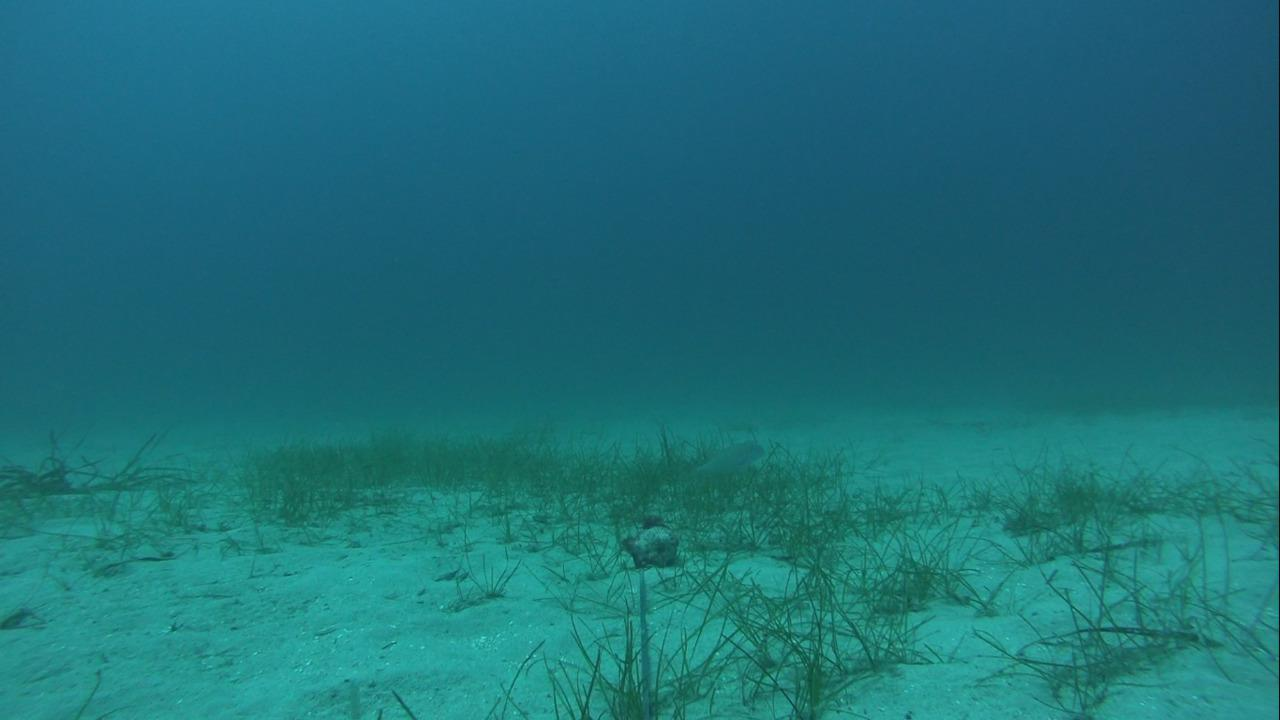raor: (678, 428, 769, 480)
